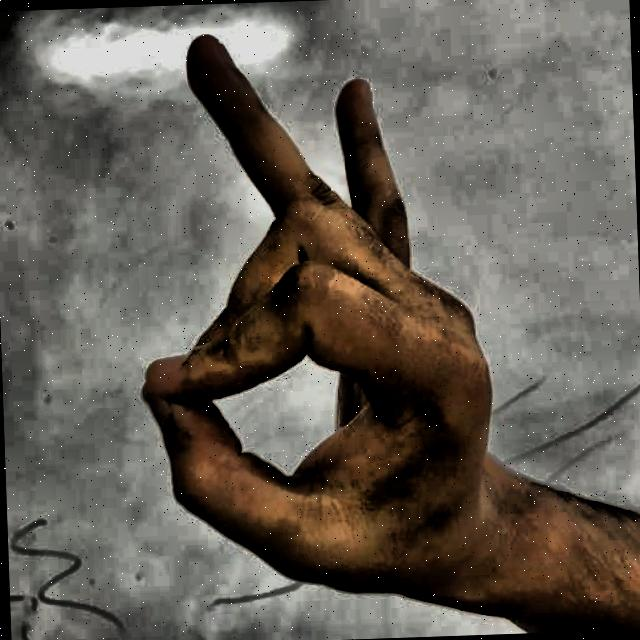Na: (84, 6, 537, 640)
